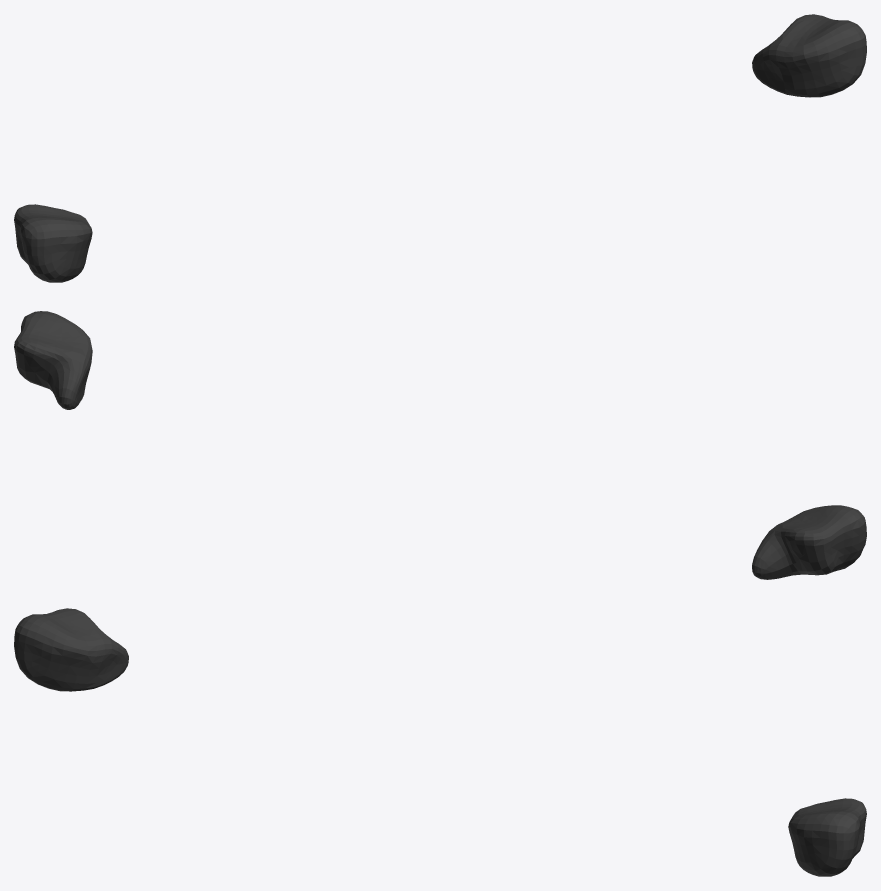
Rendered from Carpal_second_1.glb.
The picture shows the model from 3 angles, top to bottom: view 1: azimuth 30°, elevation 25°; view 2: azimuth 150°, elevation 25°; view 3: azimuth 330°, elevation 25°; orthographic projection.
Parts seen in each view (by area): view 1: Carpal_second_1; view 2: Carpal_second_1; view 3: Carpal_second_1.
Boxes of the visible parts, x1,y1,x2,y2 form: Carpal_second_1: (14,14,866,282); Carpal_second_1: (14,311,866,579); Carpal_second_1: (14,608,866,876).
Size of the model in its own units: 0.00277 by 0.000213 by 0.000259.
1 material, 1 textured.
